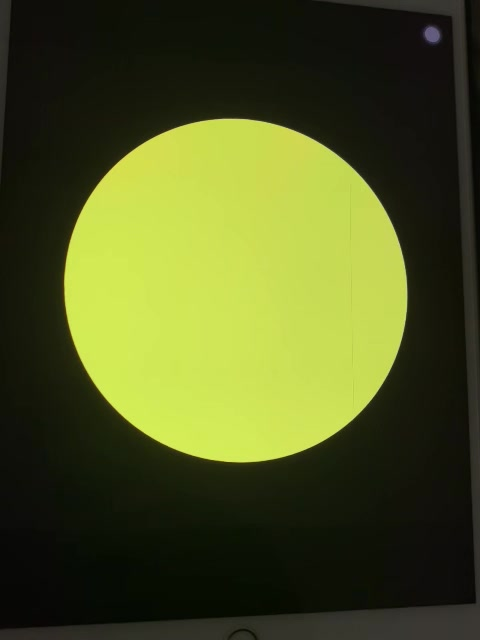left: (60, 114, 419, 465)
